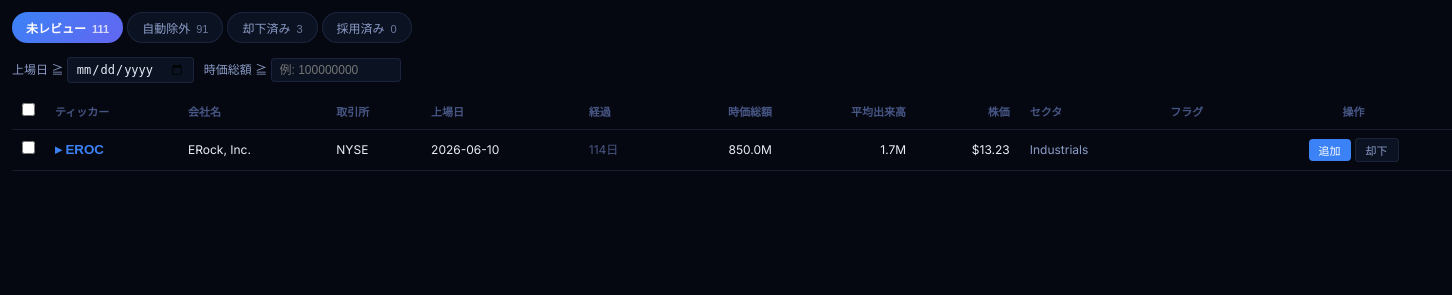
Test: UniverseCandidatesPage › ティッカーを押すと企業概要と外部リンクが開く
What coordinates should you click on to do the following:
click the button "▸ EROC"
I would click on:
 (79, 149)
Its box is [55,142,104,156].
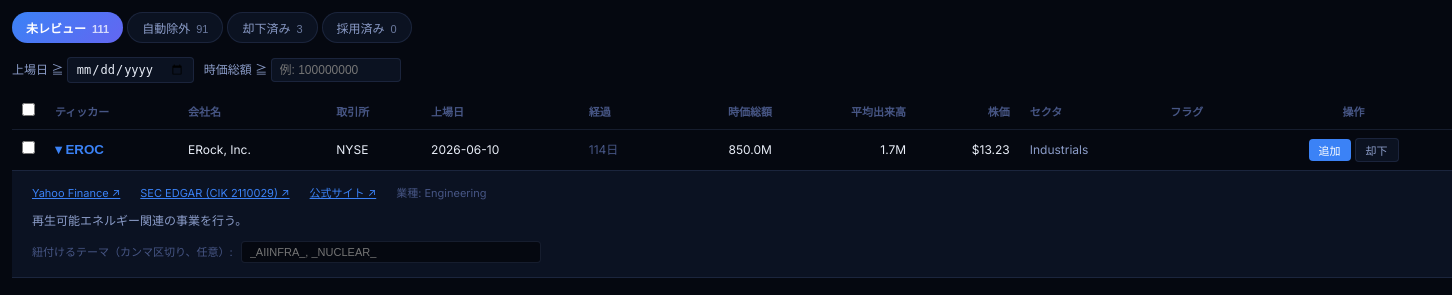
Result: the text "再生可能エネルギー関連の事業を行う。" is shown at [32,213,247,228]
Result: the link "SEC EDGAR (CIK 2110029) ↗" is shown at [140,184,290,201]
Result: the link "Yahoo Finance ↗" is shown at [32,184,120,201]
